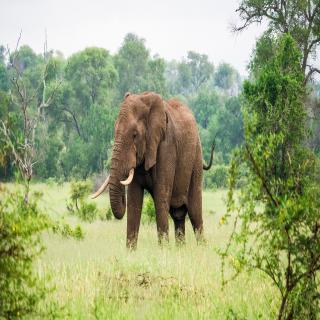Elephant: (91, 88, 219, 251)
